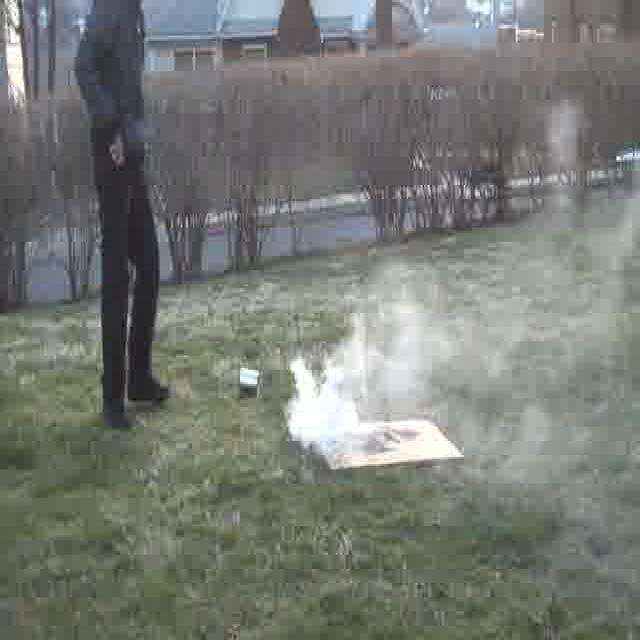Smoke: (280, 96, 640, 486)
